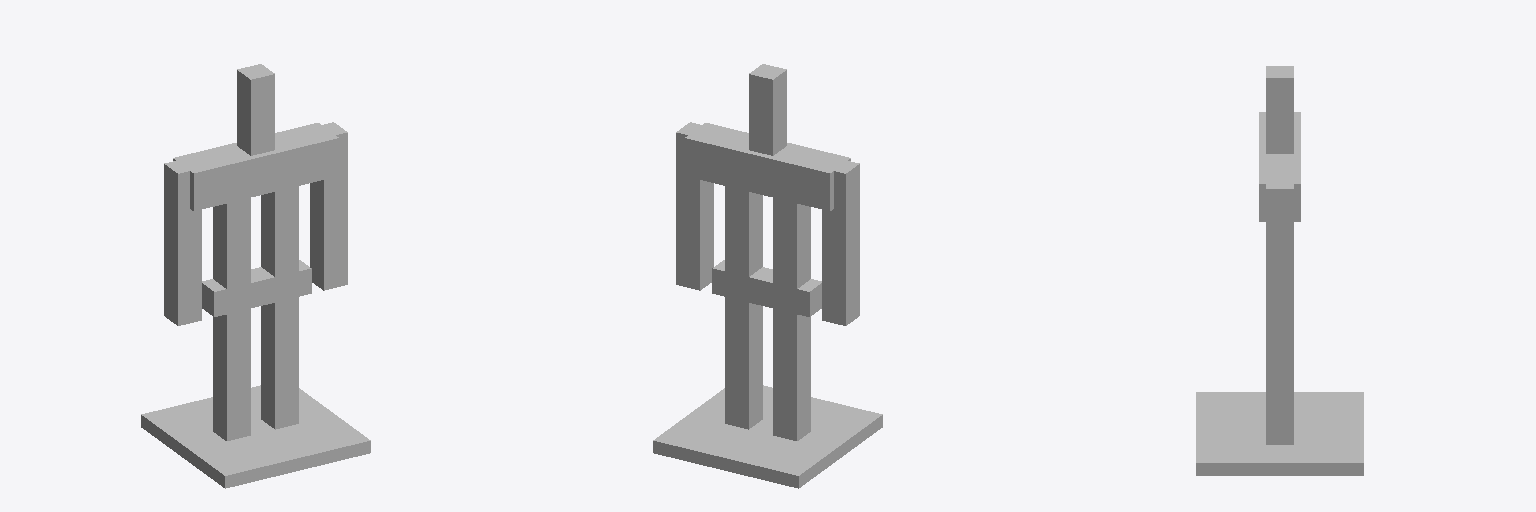
Rendered from armor_stand.obj.
The picture shows the model from 3 angles: view 1: azimuth 30°, elevation 25°; view 2: azimuth 150°, elevation 25°; view 3: azimuth 270°, elevation 25°; orthographic projection.
Parts seen in each view (by area): view 1: plate, collar, right_arm, left_arm, right_leg, left_leg, hip, head, right_rib, left_rib; view 2: plate, collar, right_arm, left_arm, right_leg, left_leg, hip, head, right_rib, left_rib; view 3: plate, left_arm, left_leg, head, collar.
Part boxes in pixels (x1,y1,x2,y2): plate: (141, 385, 370, 488); collar: (173, 123, 338, 210); right_arm: (164, 158, 201, 325); left_arm: (310, 122, 347, 290); right_leg: (213, 309, 250, 440); left_leg: (261, 297, 298, 429); hip: (202, 260, 311, 316); head: (237, 64, 274, 155); right_rib: (213, 198, 250, 288); left_rib: (261, 186, 298, 276); plate: (653, 385, 882, 488); collar: (685, 123, 850, 210); right_arm: (822, 158, 859, 325); left_arm: (676, 122, 713, 290); right_leg: (773, 309, 810, 440); left_leg: (725, 297, 762, 429); hip: (712, 260, 821, 316); head: (749, 64, 786, 155); right_rib: (773, 198, 810, 288); left_rib: (725, 186, 762, 276); plate: (1196, 392, 1363, 475); left_arm: (1266, 178, 1293, 341); left_leg: (1266, 342, 1293, 444); head: (1266, 66, 1293, 153); collar: (1259, 112, 1300, 221).
Size of the model in its own units: 0.875 by 1.81 by 0.75.